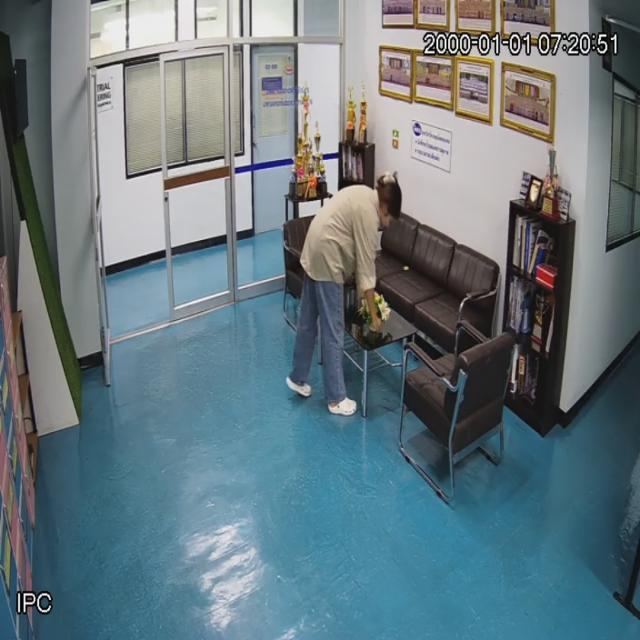normal: (294, 177, 404, 407)
